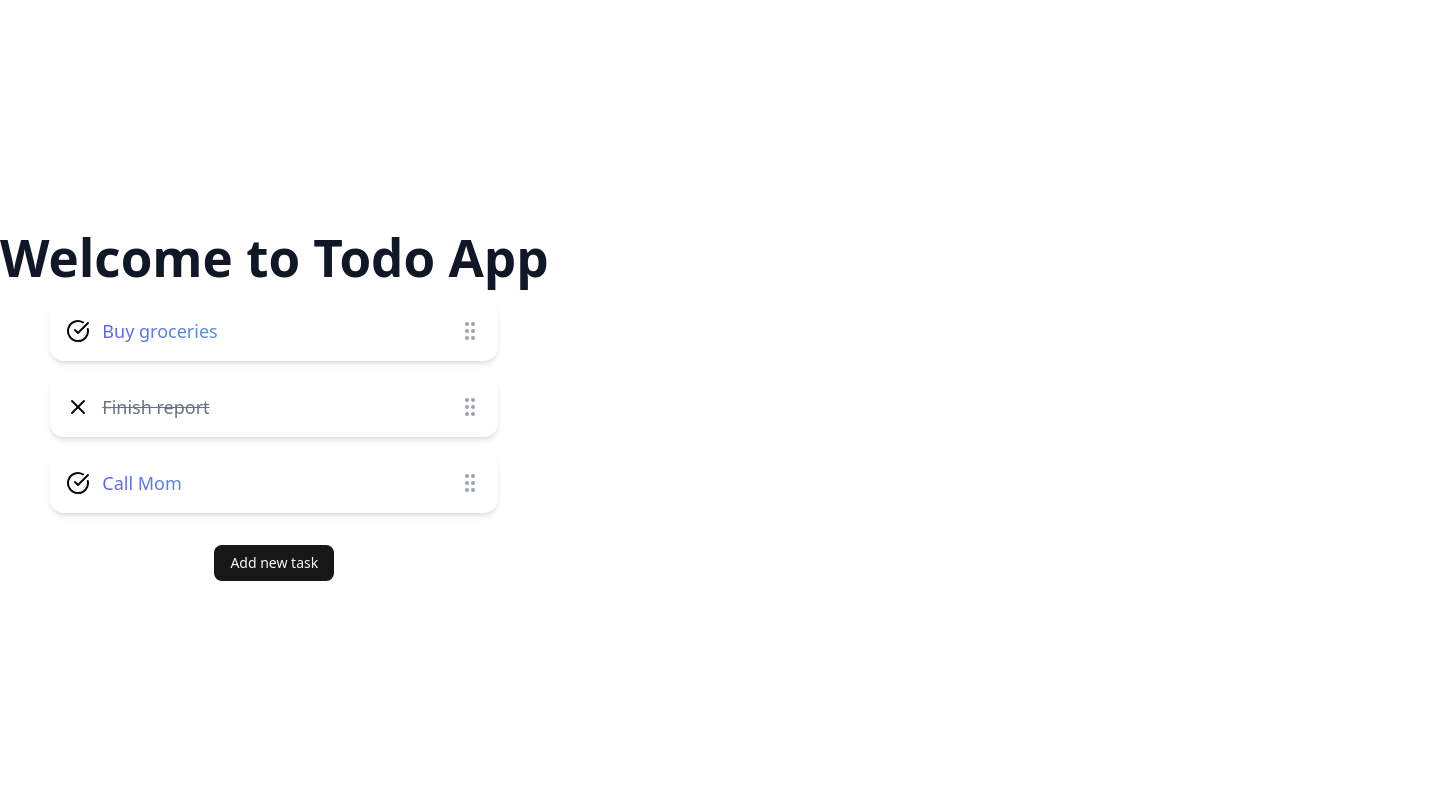
Scenario: modal visibility toggles
This screenshot has width=1440, height=810.
Click the button "Add new task" at (274, 563), box [214,545,334,581]
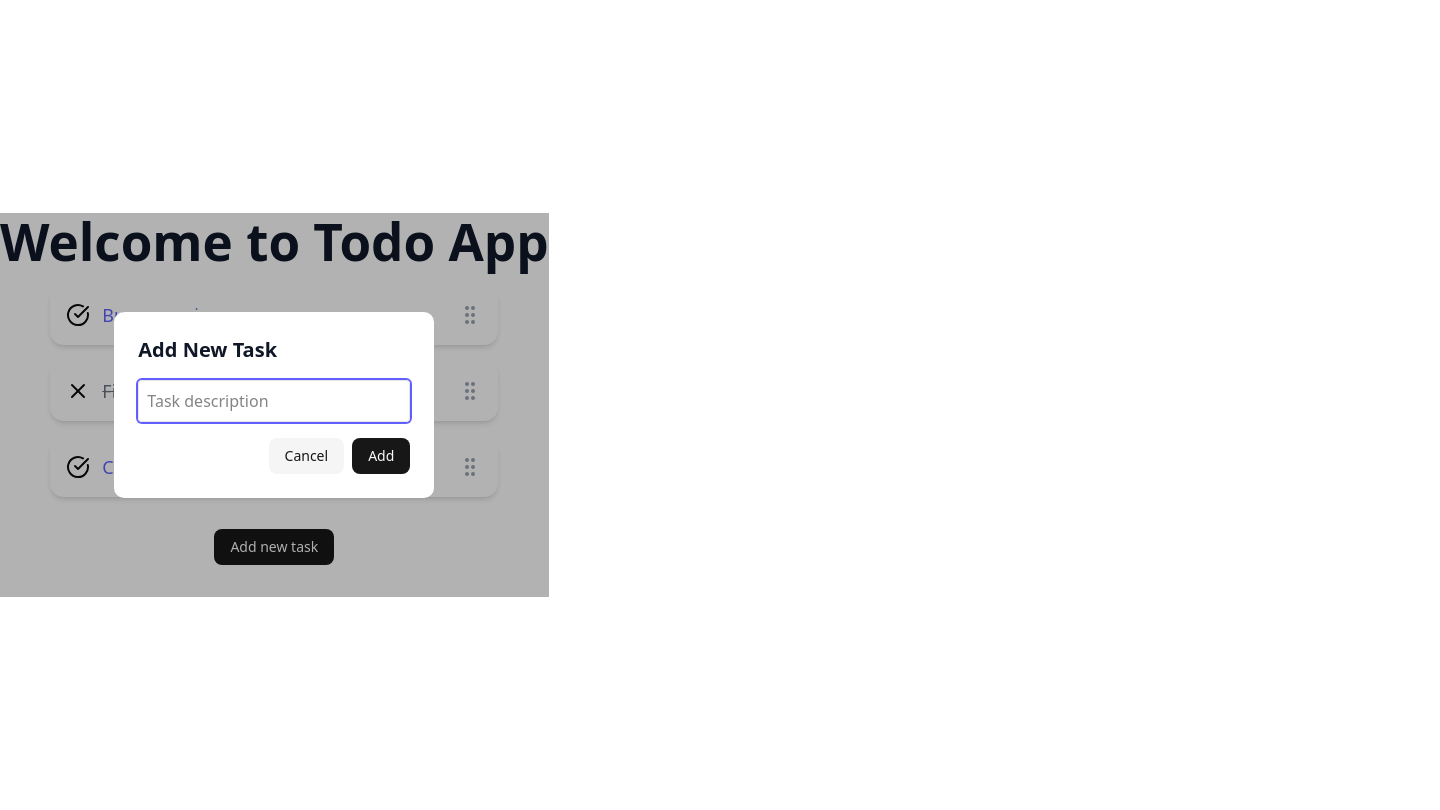
Check: the dialog is shown, box [0,213,549,597]
Click the button "Cancel" at (306, 456), box [268,438,344,474]
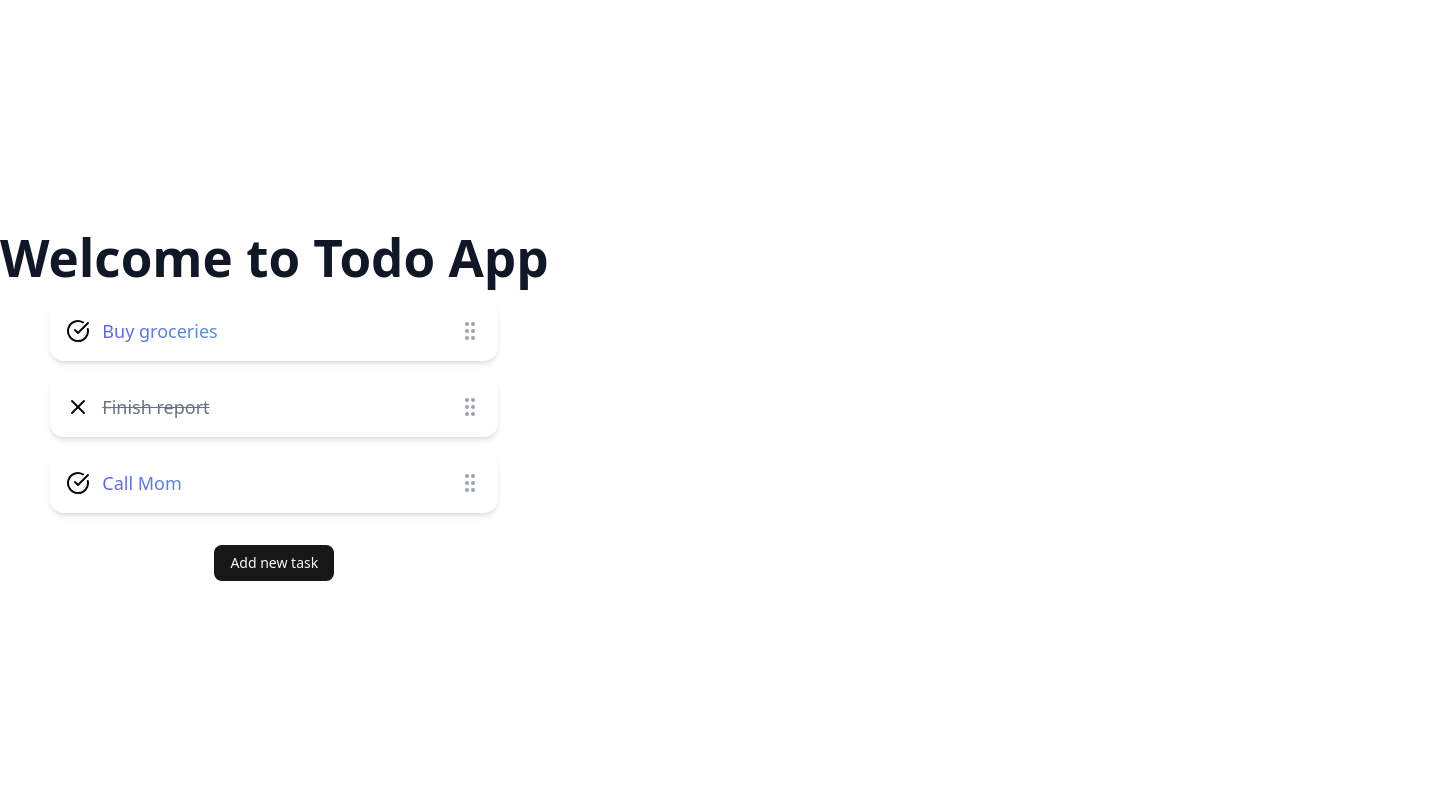
Check: the dialog is gone
